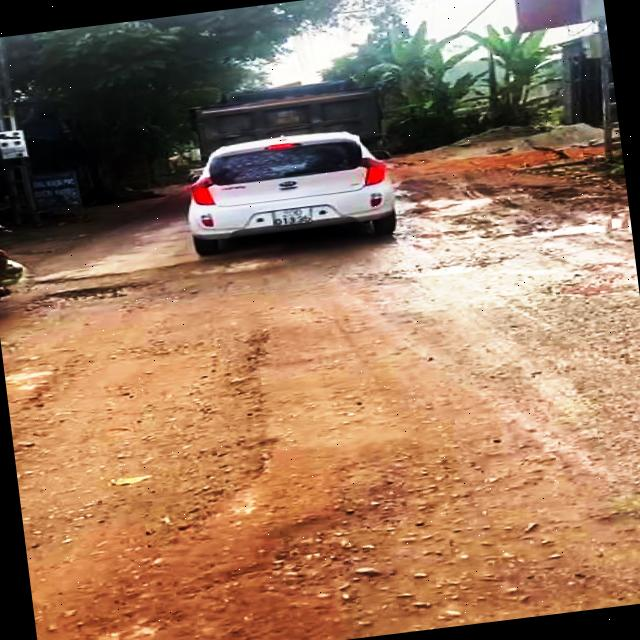pothole: (3, 333, 300, 564), (28, 278, 154, 312), (380, 252, 491, 285)
